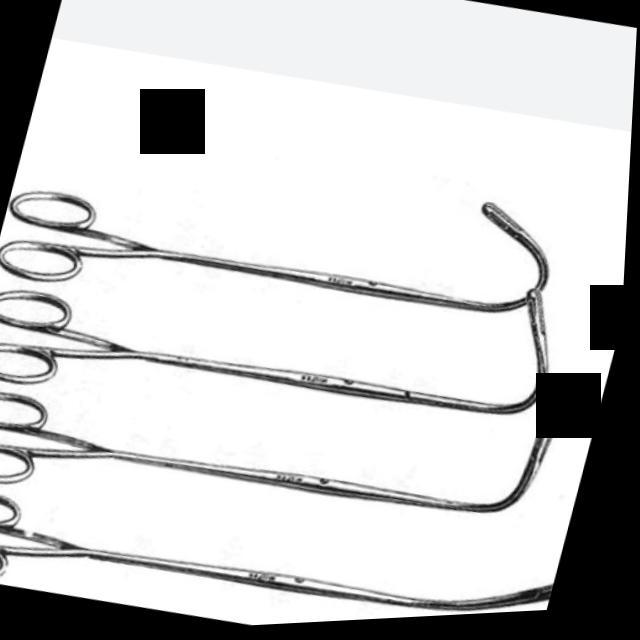Randall: (0, 94, 589, 397)
